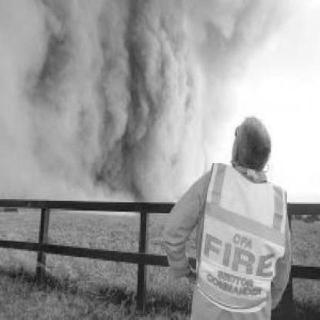Smoke: (4, 3, 198, 195)
